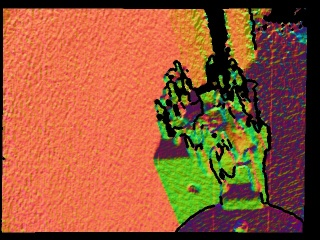station: (219, 162, 266, 209)
